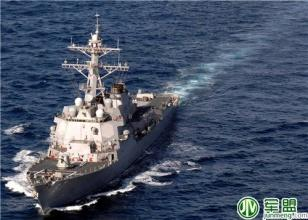warship: (24, 20, 189, 208)
